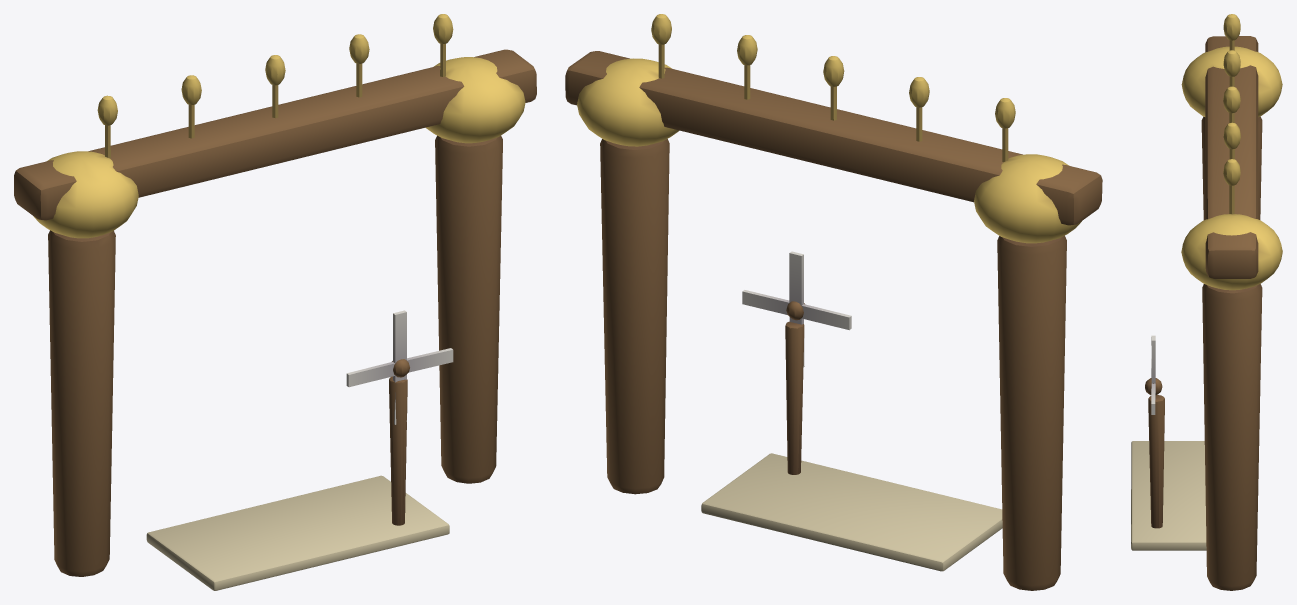
3 views of the same model, side by side, from view 1: azimuth 30°, elevation 25°; view 2: azimuth 150°, elevation 25°; view 3: azimuth 270°, elevation 25° (orthographic). The views are drawn at different scales.
Visible parts, largest first — view 1: gate_c4aa5ccf; view 2: gate_c4aa5ccf; view 3: gate_c4aa5ccf.
Boxes of the visible parts, bbox=[...] form: gate_c4aa5ccf: bbox=[14, 14, 536, 590]; gate_c4aa5ccf: bbox=[565, 14, 1102, 590]; gate_c4aa5ccf: bbox=[1131, 14, 1282, 590].
Size of the model in its own units: 5.08 by 4.53 by 1.5.
